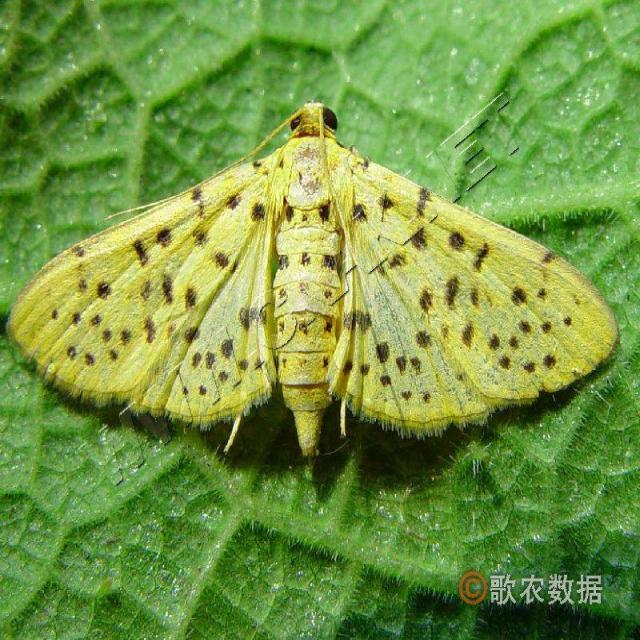peach borer: (6, 99, 626, 474)
